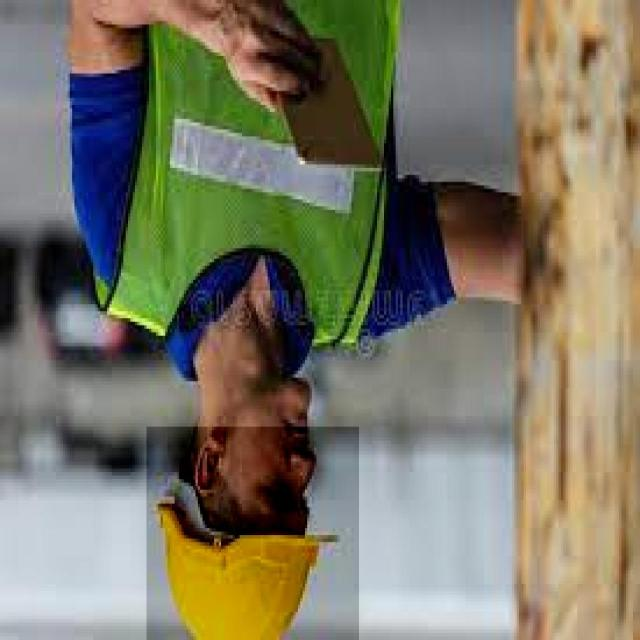Helmet: (146, 426, 359, 640)
